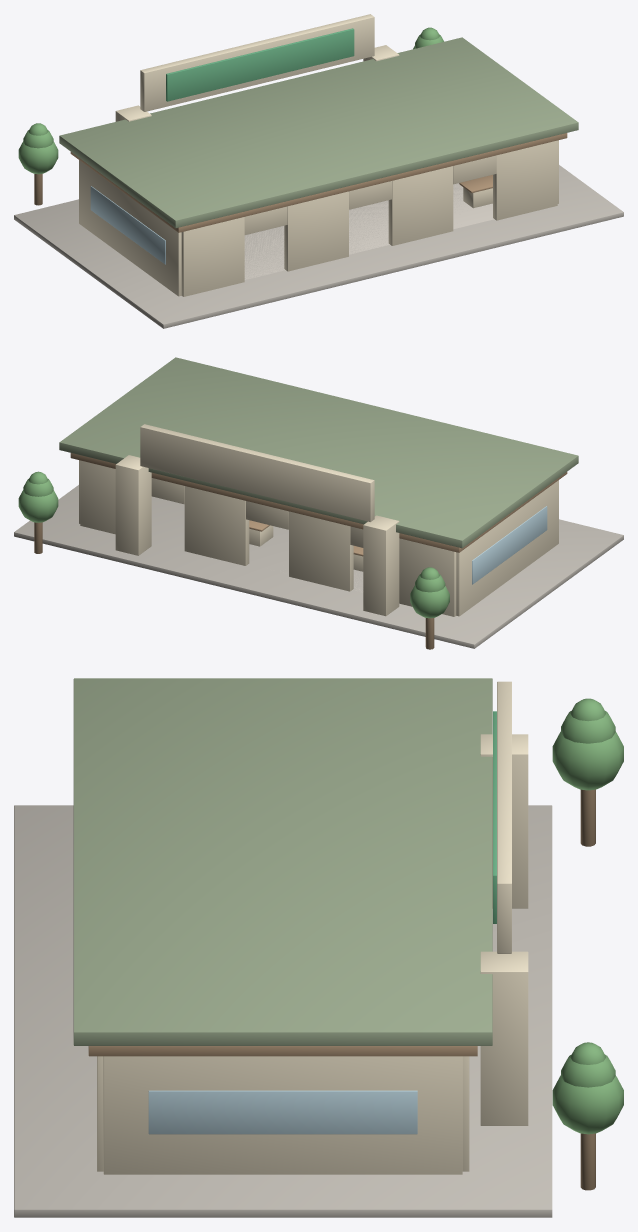
The model's file is th24_zoo_eingang.glb.
3 renders of one model, top to bottom at view 1: azimuth 30°, elevation 25°; view 2: azimuth 150°, elevation 25°; view 3: azimuth 270°, elevation 25°, orthographic. The views are drawn at different scales.
Visible parts, largest first — view 1: Cube.020, Cube, Cube.023, Cube.022, Cube.016, Cube.001, Cube.011, Cube.012, Cube.010, Cube.009, Cube.021, Cube.017 (+5 smaller); view 2: Cube.020, Cube, Cube.022, Cube.016, Cube.004, Cube.003, Cube.024, Cube.025, Cube.002, Cube.005, Cube.021, Cube.017 (+4 smaller); view 3: Cube.020, Cube, Cube.018, Cube.019, Cube.025, Cube.021, Cube.022, Cube.024, Sphere, Sphere.003, Sphere.001, Sphere.004 (+5 smaller).
Boxes of the visible parts, x1,y1,x2,y2 form: Cube.020: [59, 37, 578, 228]; Cube: [14, 165, 623, 328]; Cube.023: [166, 28, 354, 101]; Cube.022: [140, 14, 374, 111]; Cube.016: [79, 160, 181, 296]; Cube.001: [244, 183, 494, 279]; Cube.011: [388, 166, 453, 245]; Cube.012: [493, 140, 557, 220]; Cube.010: [284, 191, 348, 271]; Cube.009: [181, 217, 244, 296]; Cube.021: [70, 133, 567, 232]; Cube.017: [90, 186, 165, 264]; Cube.020: [59, 357, 578, 548]; Cube: [14, 485, 623, 648]; Cube.022: [140, 424, 374, 521]; Cube.016: [456, 480, 558, 616]; Cube.004: [184, 486, 249, 565]; Cube.003: [289, 511, 353, 591]; Cube.024: [363, 515, 399, 616]; Cube.025: [115, 455, 151, 555]; Cube.002: [399, 538, 456, 616]; Cube.005: [80, 460, 115, 534]; Cube.021: [70, 453, 567, 552]; Cube.017: [472, 506, 547, 584]; Cube.020: [73, 678, 492, 1045]; Cube: [14, 805, 552, 1217]; Cube.018: [103, 1056, 462, 1174]; Cube.019: [148, 1090, 417, 1134]; Cube.025: [480, 951, 528, 1125]; Cube.021: [88, 1046, 477, 1056]; Cube.022: [497, 681, 511, 953]; Cube.024: [480, 734, 528, 908]; Sphere: [552, 731, 623, 790]; Sphere.003: [552, 1075, 623, 1134]; Sphere.001: [561, 711, 615, 743]; Sphere.004: [561, 1054, 615, 1087].
Bounding box in the file's own units: 32 × 8.6 × 20.39.
